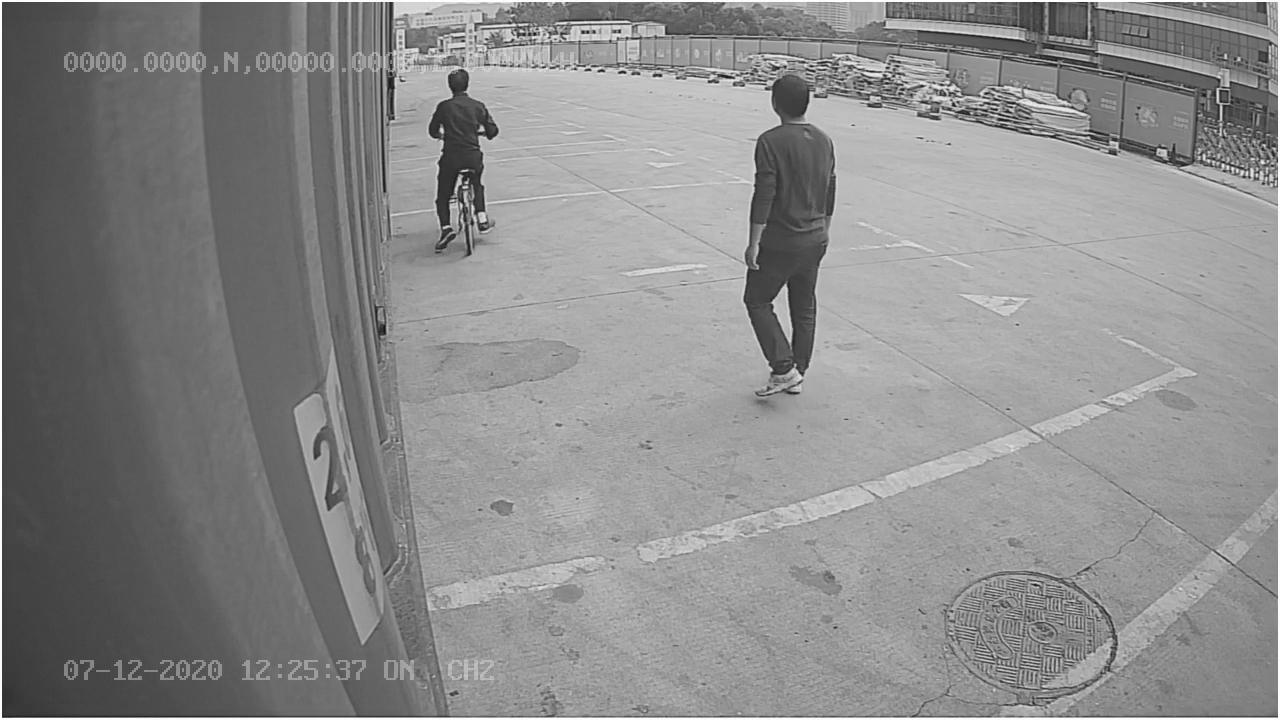person: (735, 69, 844, 408)
